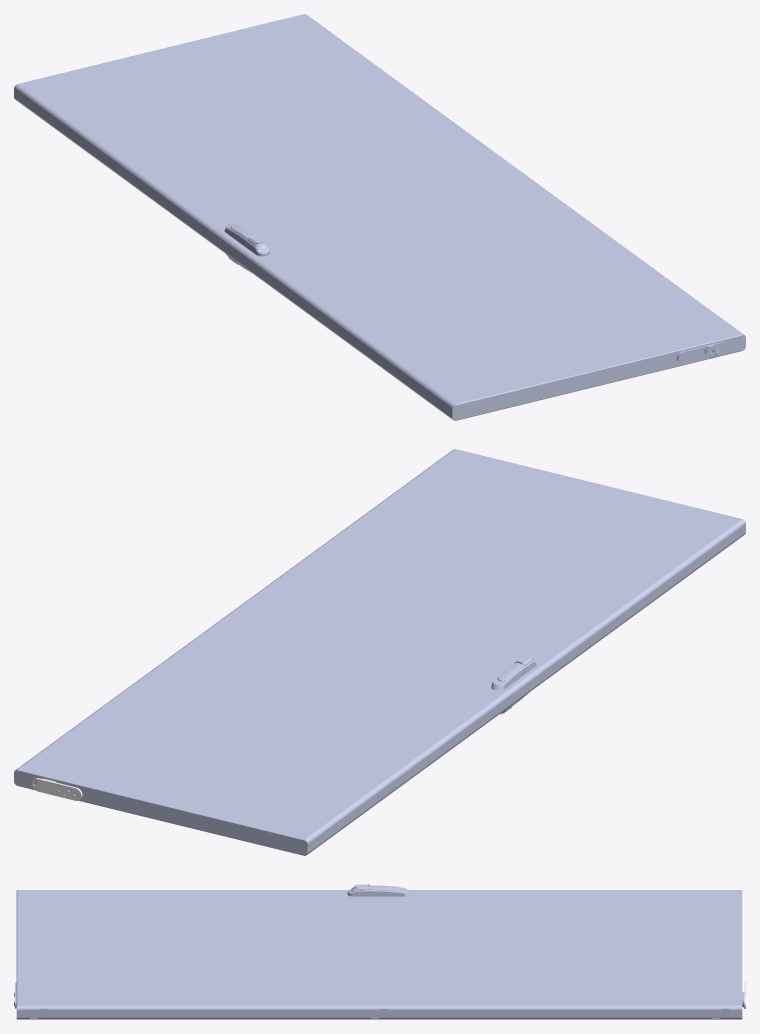
The model's file is step-6.glb.
3 views of the same model, one above another, from view 1: azimuth 30°, elevation 25°; view 2: azimuth 150°, elevation 25°; view 3: azimuth 270°, elevation 25° (orthographic). The views are drawn at different scales.
Parts seen in each view (by area): view 1: door2-1; view 2: door2-1, 20250522dutydetentC4213-1-1; view 3: door2-1.
Part boxes in pixels (left/top/right/bottom): door2-1: left=14, top=14, right=745, bottom=420; door2-1: left=14, top=449, right=745, bottom=855; 20250522dutydetentC4213-1-1: left=32, top=778, right=82, bottom=800; door2-1: left=16, top=884, right=742, bottom=1019.
Size of the model in its own units: 0.8022 by 0.0992 by 2.09.
